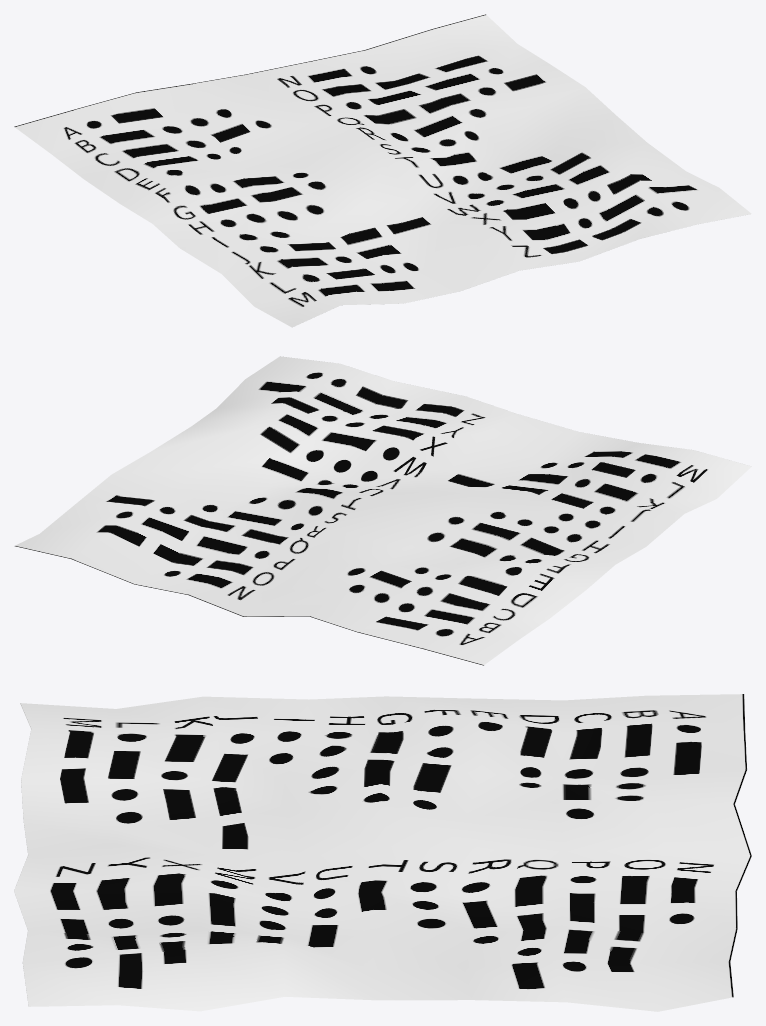
Rendered from MorseCode_Paper.fbx.
The picture shows the model from 3 angles, top to bottom: view 1: azimuth 30°, elevation 25°; view 2: azimuth 150°, elevation 25°; view 3: azimuth 270°, elevation 25°; orthographic projection. The views are drawn at different scales.
Visible parts, largest first — view 1: MorsePage; view 2: MorsePage; view 3: MorsePage.
Part boxes in pixels (x1,y1,x2,y2): MorsePage: [14, 14, 751, 327]; MorsePage: [14, 356, 751, 665]; MorsePage: [14, 694, 751, 1011].
Bounding box in the file's own units: 2001 × 97.01 × 2036.
Materials: 1 (1 with a texture image).
